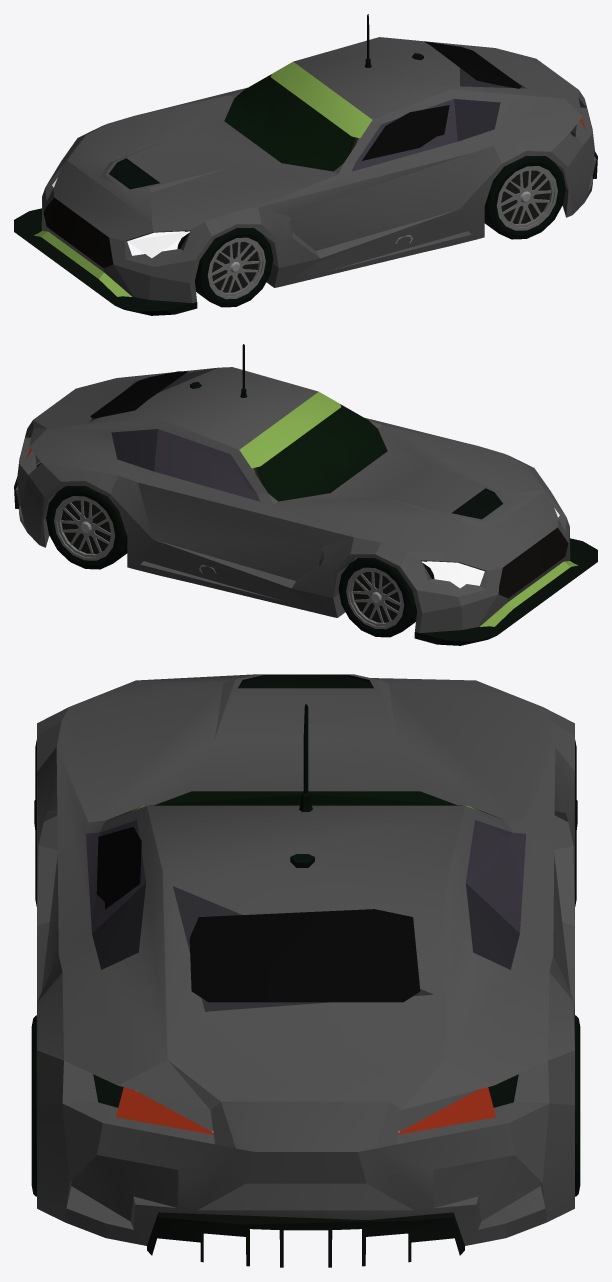
The model's file is tristar.lod.glb.
3 views of the same model, one above another, from view 1: azimuth 30°, elevation 25°; view 2: azimuth 150°, elevation 25°; view 3: azimuth 270°, elevation 25° (orthographic). The views are drawn at different scales.
Visible parts, largest first — view 1: amg Gt body, lfWheel.001; view 2: amg Gt body, lfWheel.001; view 3: amg Gt body, lfWheel.001.
Boxes of the visible parts, x1,y1,x2,y2 form: amg Gt body: (14,14,597,315); lfWheel.001: (177,156,565,307); amg Gt body: (14,344,597,645); lfWheel.001: (46,486,434,637); amg Gt body: (34,674,577,1267); lfWheel.001: (31,740,580,1196).
Size of the model in its own units: 4.13 by 1.53 by 1.93.
4 materials, 3 textured.
